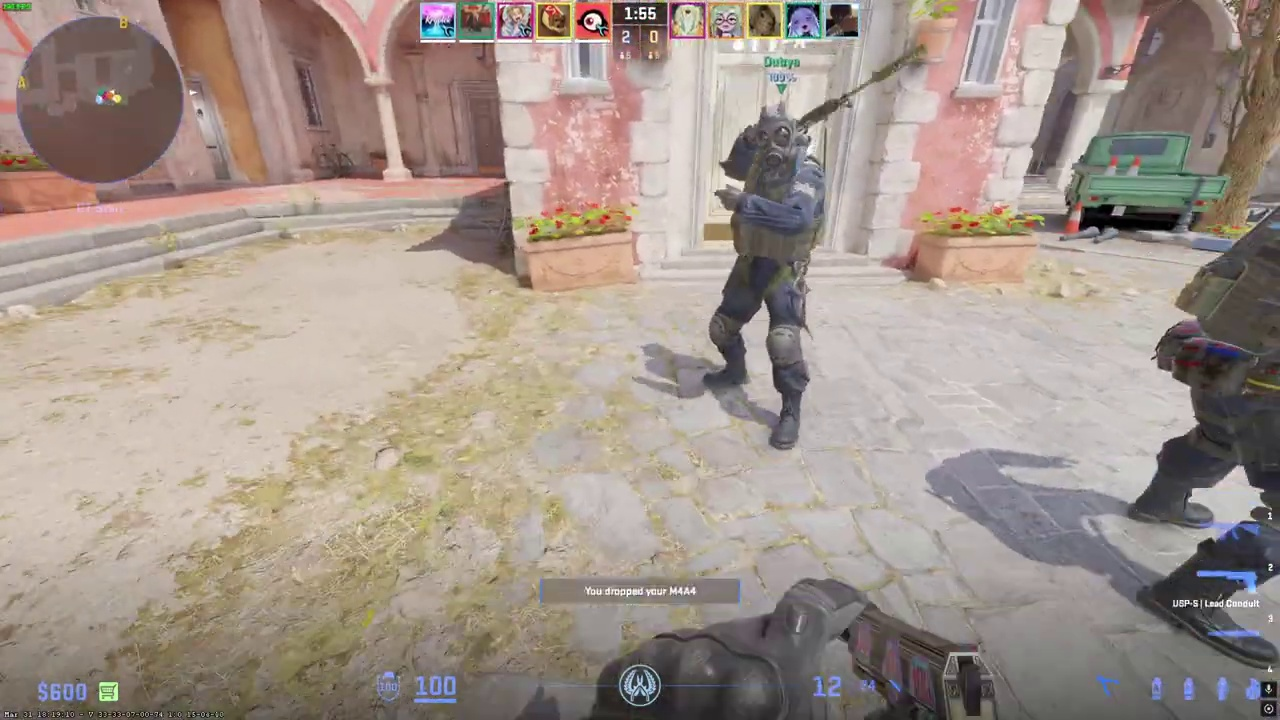CT: (1127, 195, 1280, 670), (702, 105, 826, 448)
